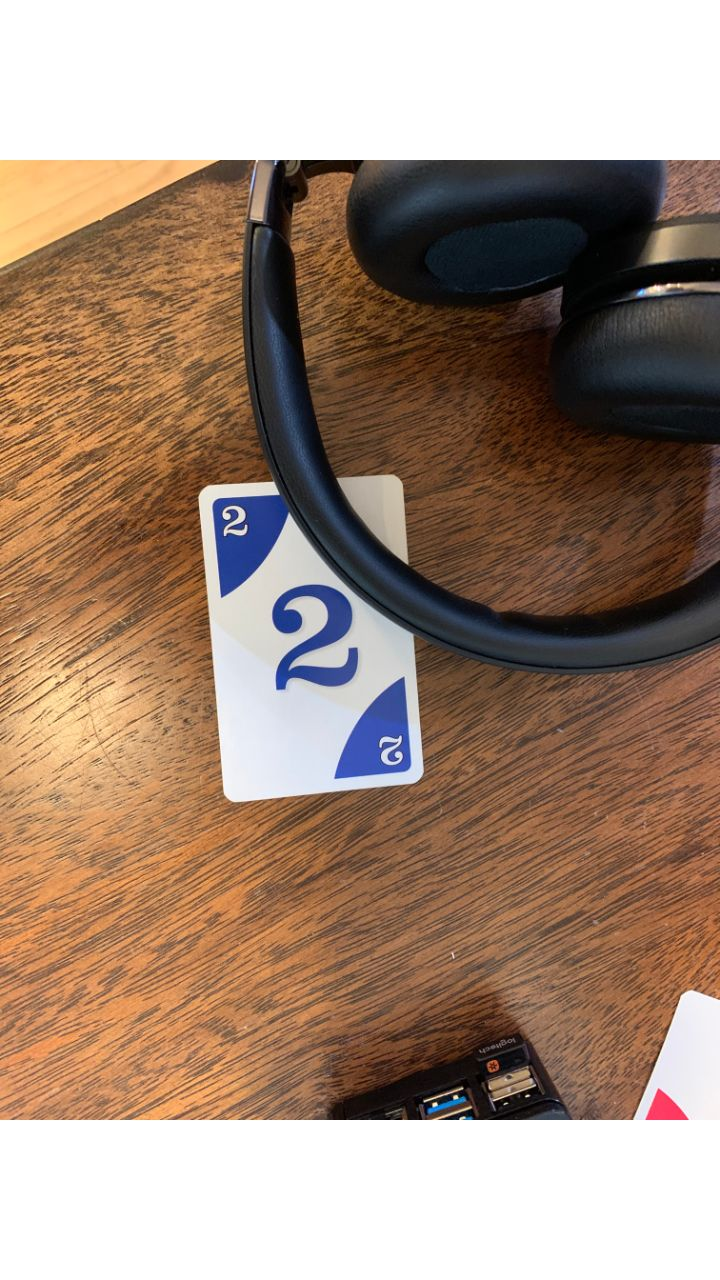two: (190, 473, 428, 804)
